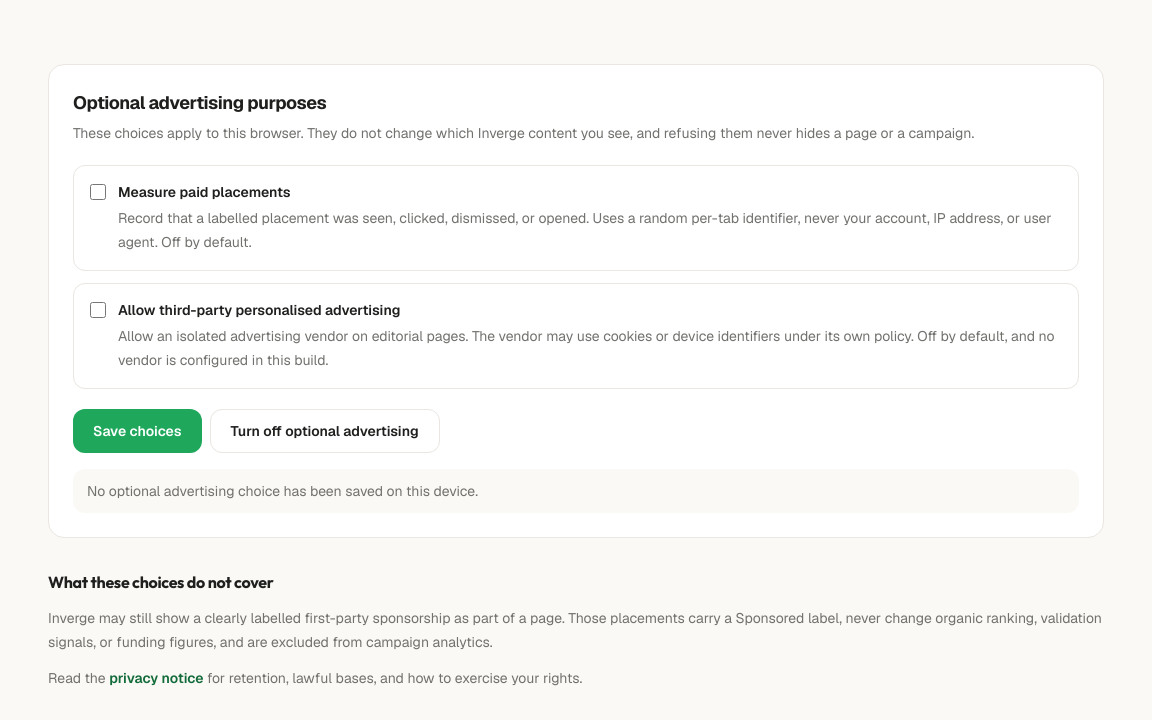
Test case: advertising preferences › saves an explicit measurement choice on this device
This screenshot has width=1152, height=720.
What coordinates should you click on to do the following:
click the checkbox labelled "Measure paid placements"
I would click on:
 (98, 192)
Its box is [90,184,106,200].
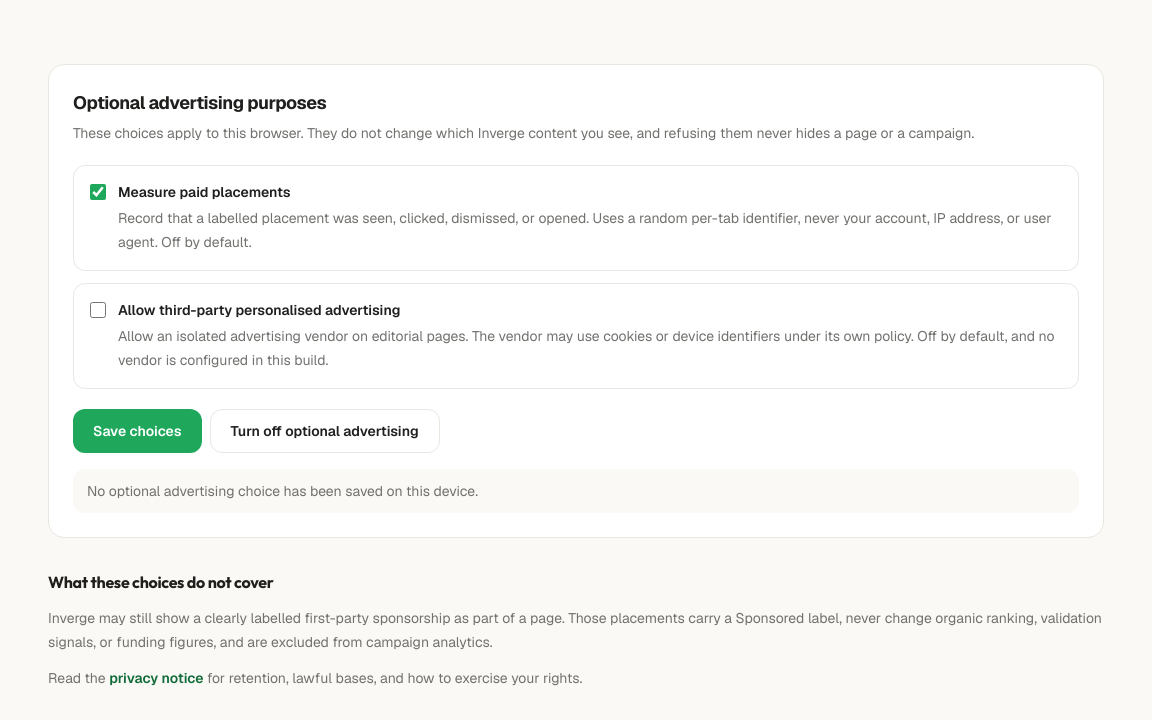
What coordinates should you click on to do the following:
click the button "Save choices"
I would click on:
 (137, 431)
Its box is [73,409,202,453].
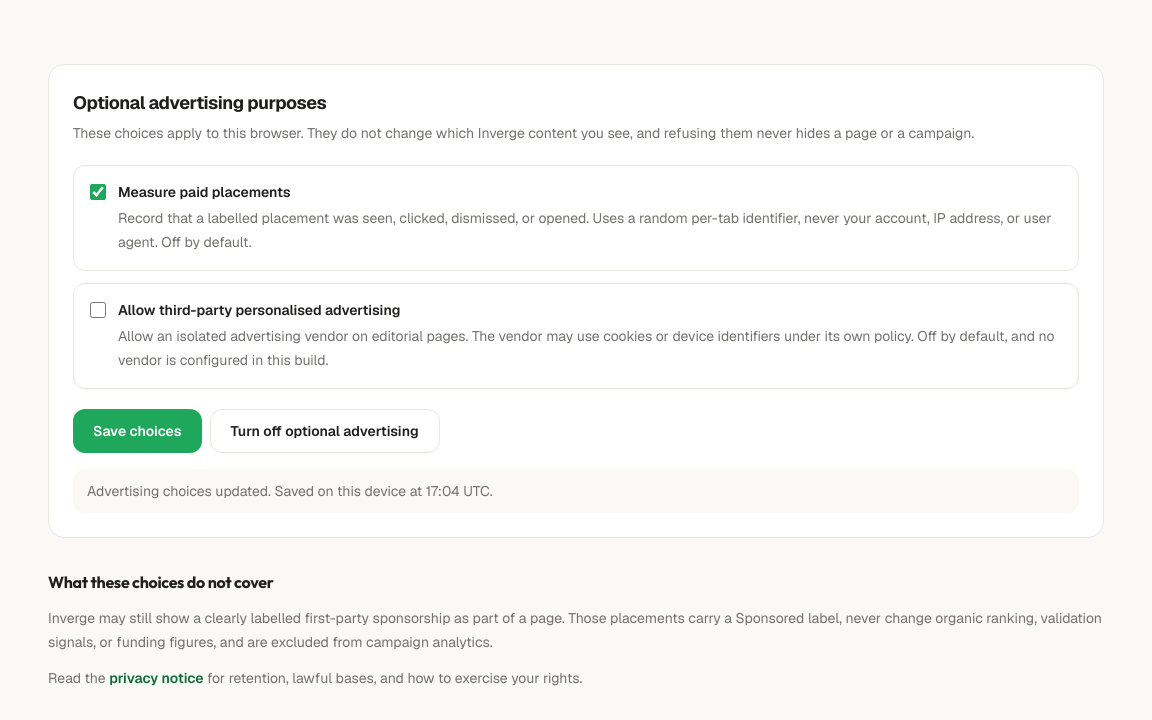
Expected: the text "Advertising choices updated. Saved on this device at 17:04 UTC." is shown, [73,469,1079,513]
